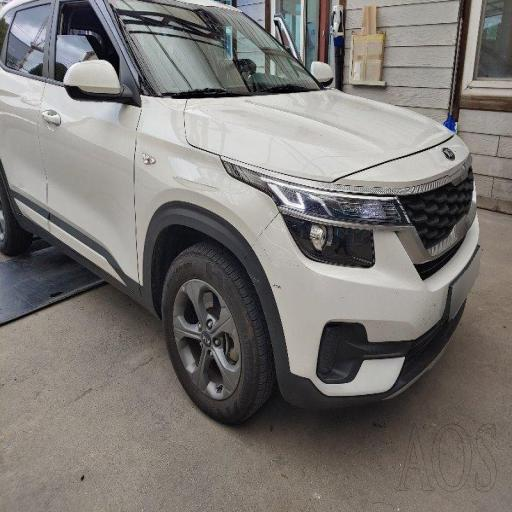dent: (162, 69, 416, 311)
